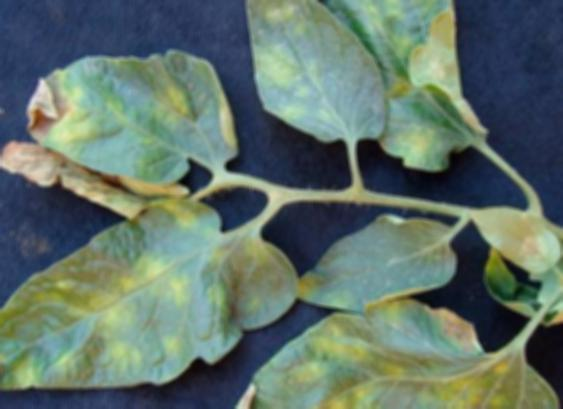Tomato mold leaf: (0, 202, 297, 401), (202, 295, 563, 409), (292, 0, 513, 170), (8, 40, 245, 184), (227, 0, 413, 149), (277, 217, 485, 315), (453, 197, 563, 281)
